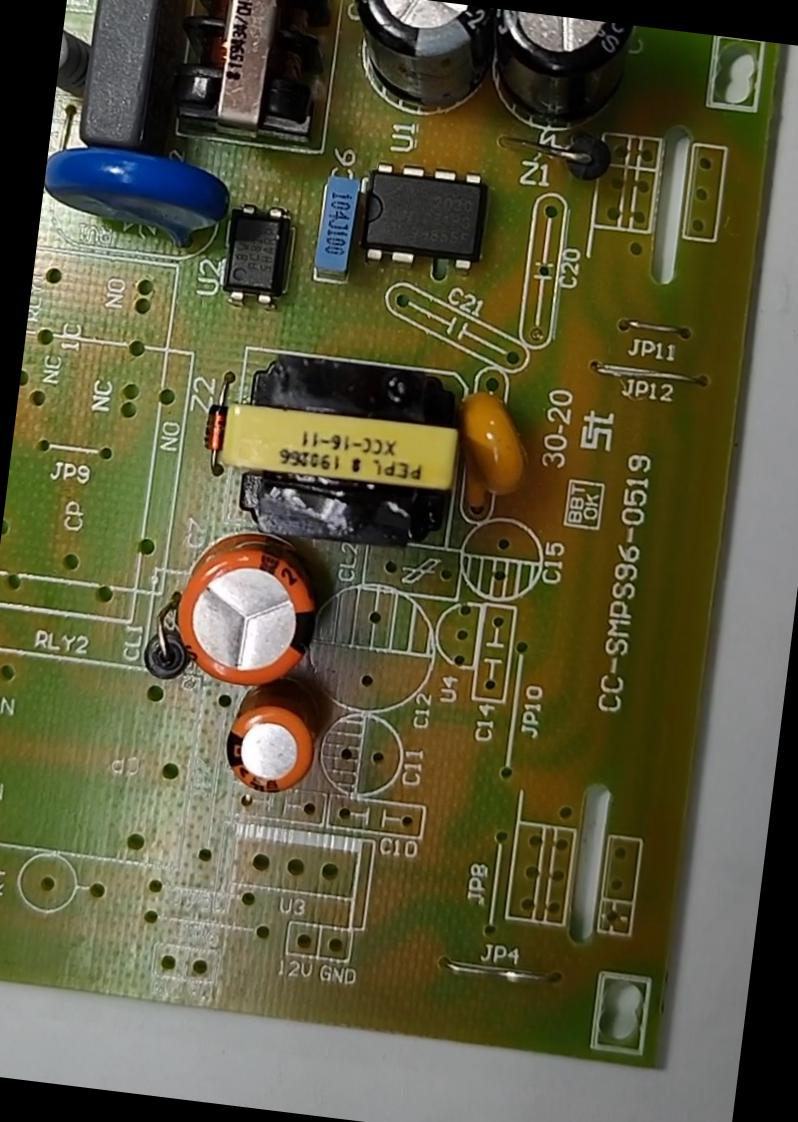Cap1: (156, 526, 340, 707)
Cap2: (208, 677, 332, 808)
Cap3: (324, 0, 507, 137)
Cap4: (462, 6, 654, 147)
MOSFET: (346, 152, 500, 286)
Mov: (38, 130, 248, 262)
Resistor: (54, 10, 100, 110)
Transformer: (201, 339, 478, 565), (155, 0, 337, 159)
